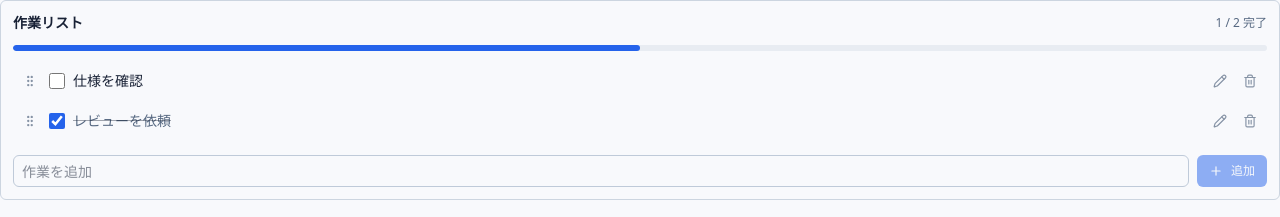
Test: TaskWorkList › 作業を削除する
Click the button named "「仕様を確認」を削除": (1250, 81) left=1239, top=70, right=1261, bottom=92
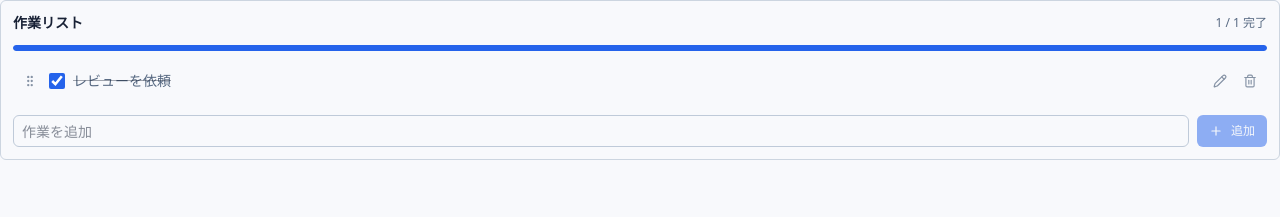
Expected: the button "仕様を確認" is gone
Expected: the text "1 / 1 完了" is shown, left=1215, top=15, right=1267, bottom=31
